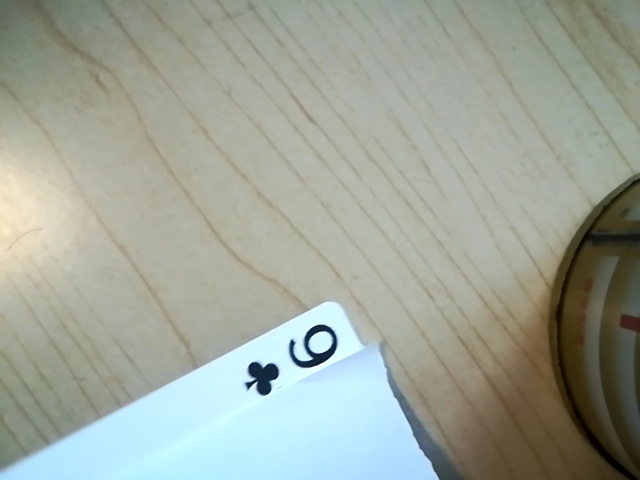mh 9: (236, 316, 354, 392)
